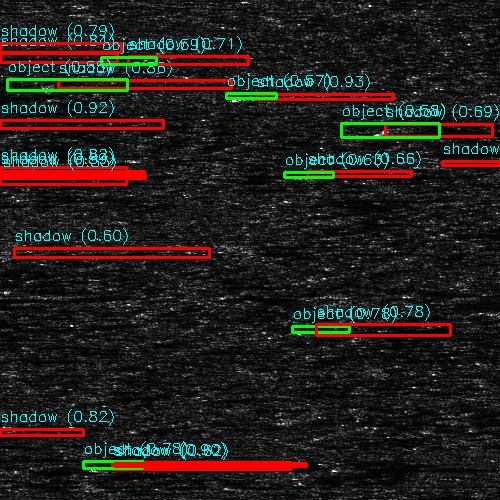rock: (89, 461, 172, 470), (370, 125, 433, 134), (18, 81, 81, 90), (348, 492, 401, 500), (110, 57, 163, 64), (288, 173, 341, 178), (294, 195, 335, 200), (0, 120, 25, 127), (484, 308, 500, 315), (239, 94, 260, 99), (0, 156, 10, 159)
shadow: (131, 461, 345, 470), (50, 81, 202, 90), (0, 120, 178, 127), (0, 451, 91, 464), (375, 492, 500, 500), (0, 43, 101, 52), (402, 125, 500, 134), (315, 173, 481, 178), (137, 57, 240, 64), (0, 178, 127, 183), (0, 51, 51, 62), (315, 195, 426, 200), (250, 94, 358, 99), (0, 156, 139, 159), (0, 295, 44, 304), (0, 171, 127, 174), (0, 6, 26, 13), (245, 242, 299, 245)
